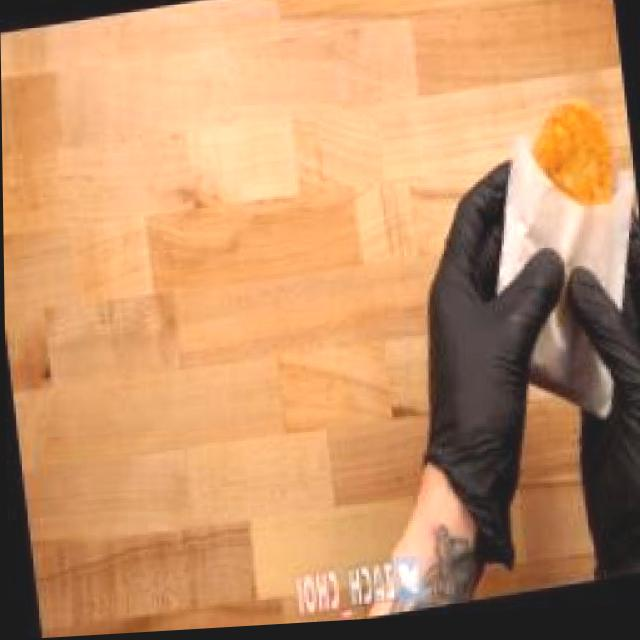Hashbrown: (518, 91, 628, 231)
